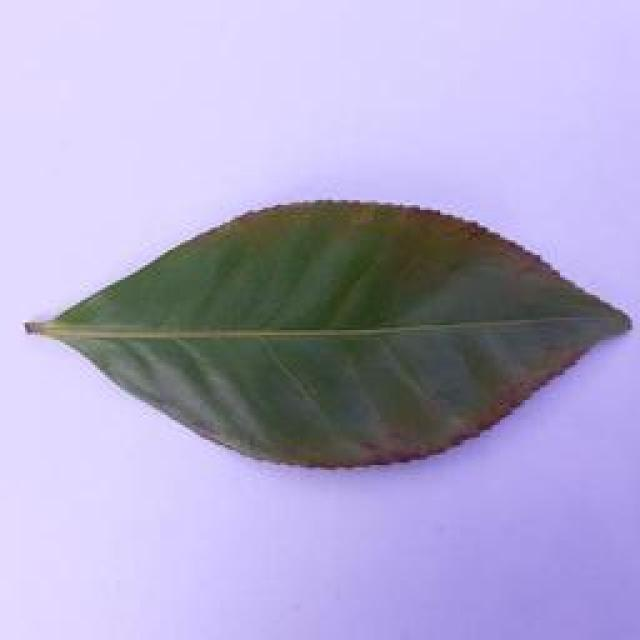Red Leaf Spot: (6, 174, 640, 486)
